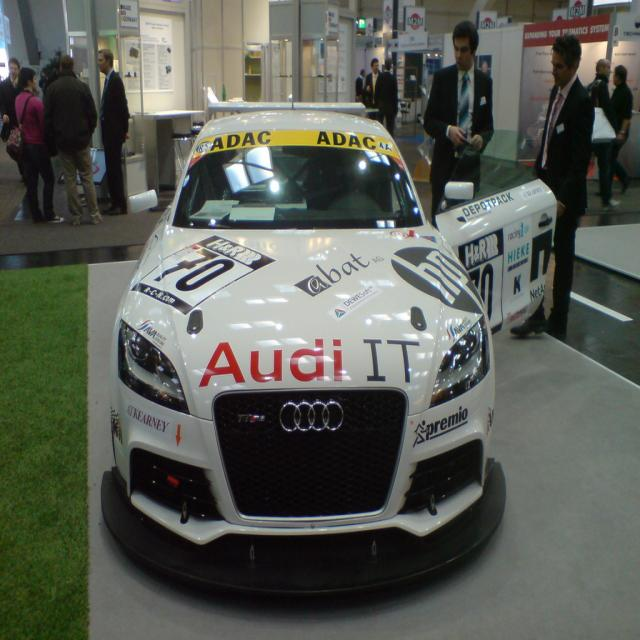car: (81, 71, 511, 603)
